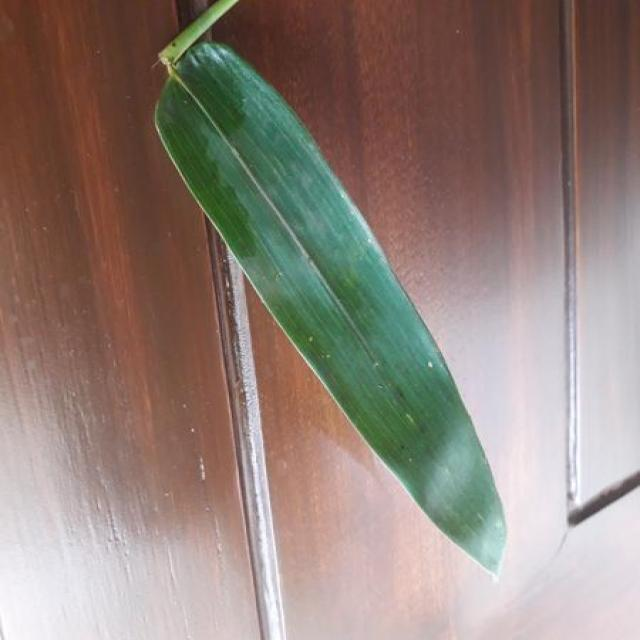Bamboo: (157, 42, 505, 572)
